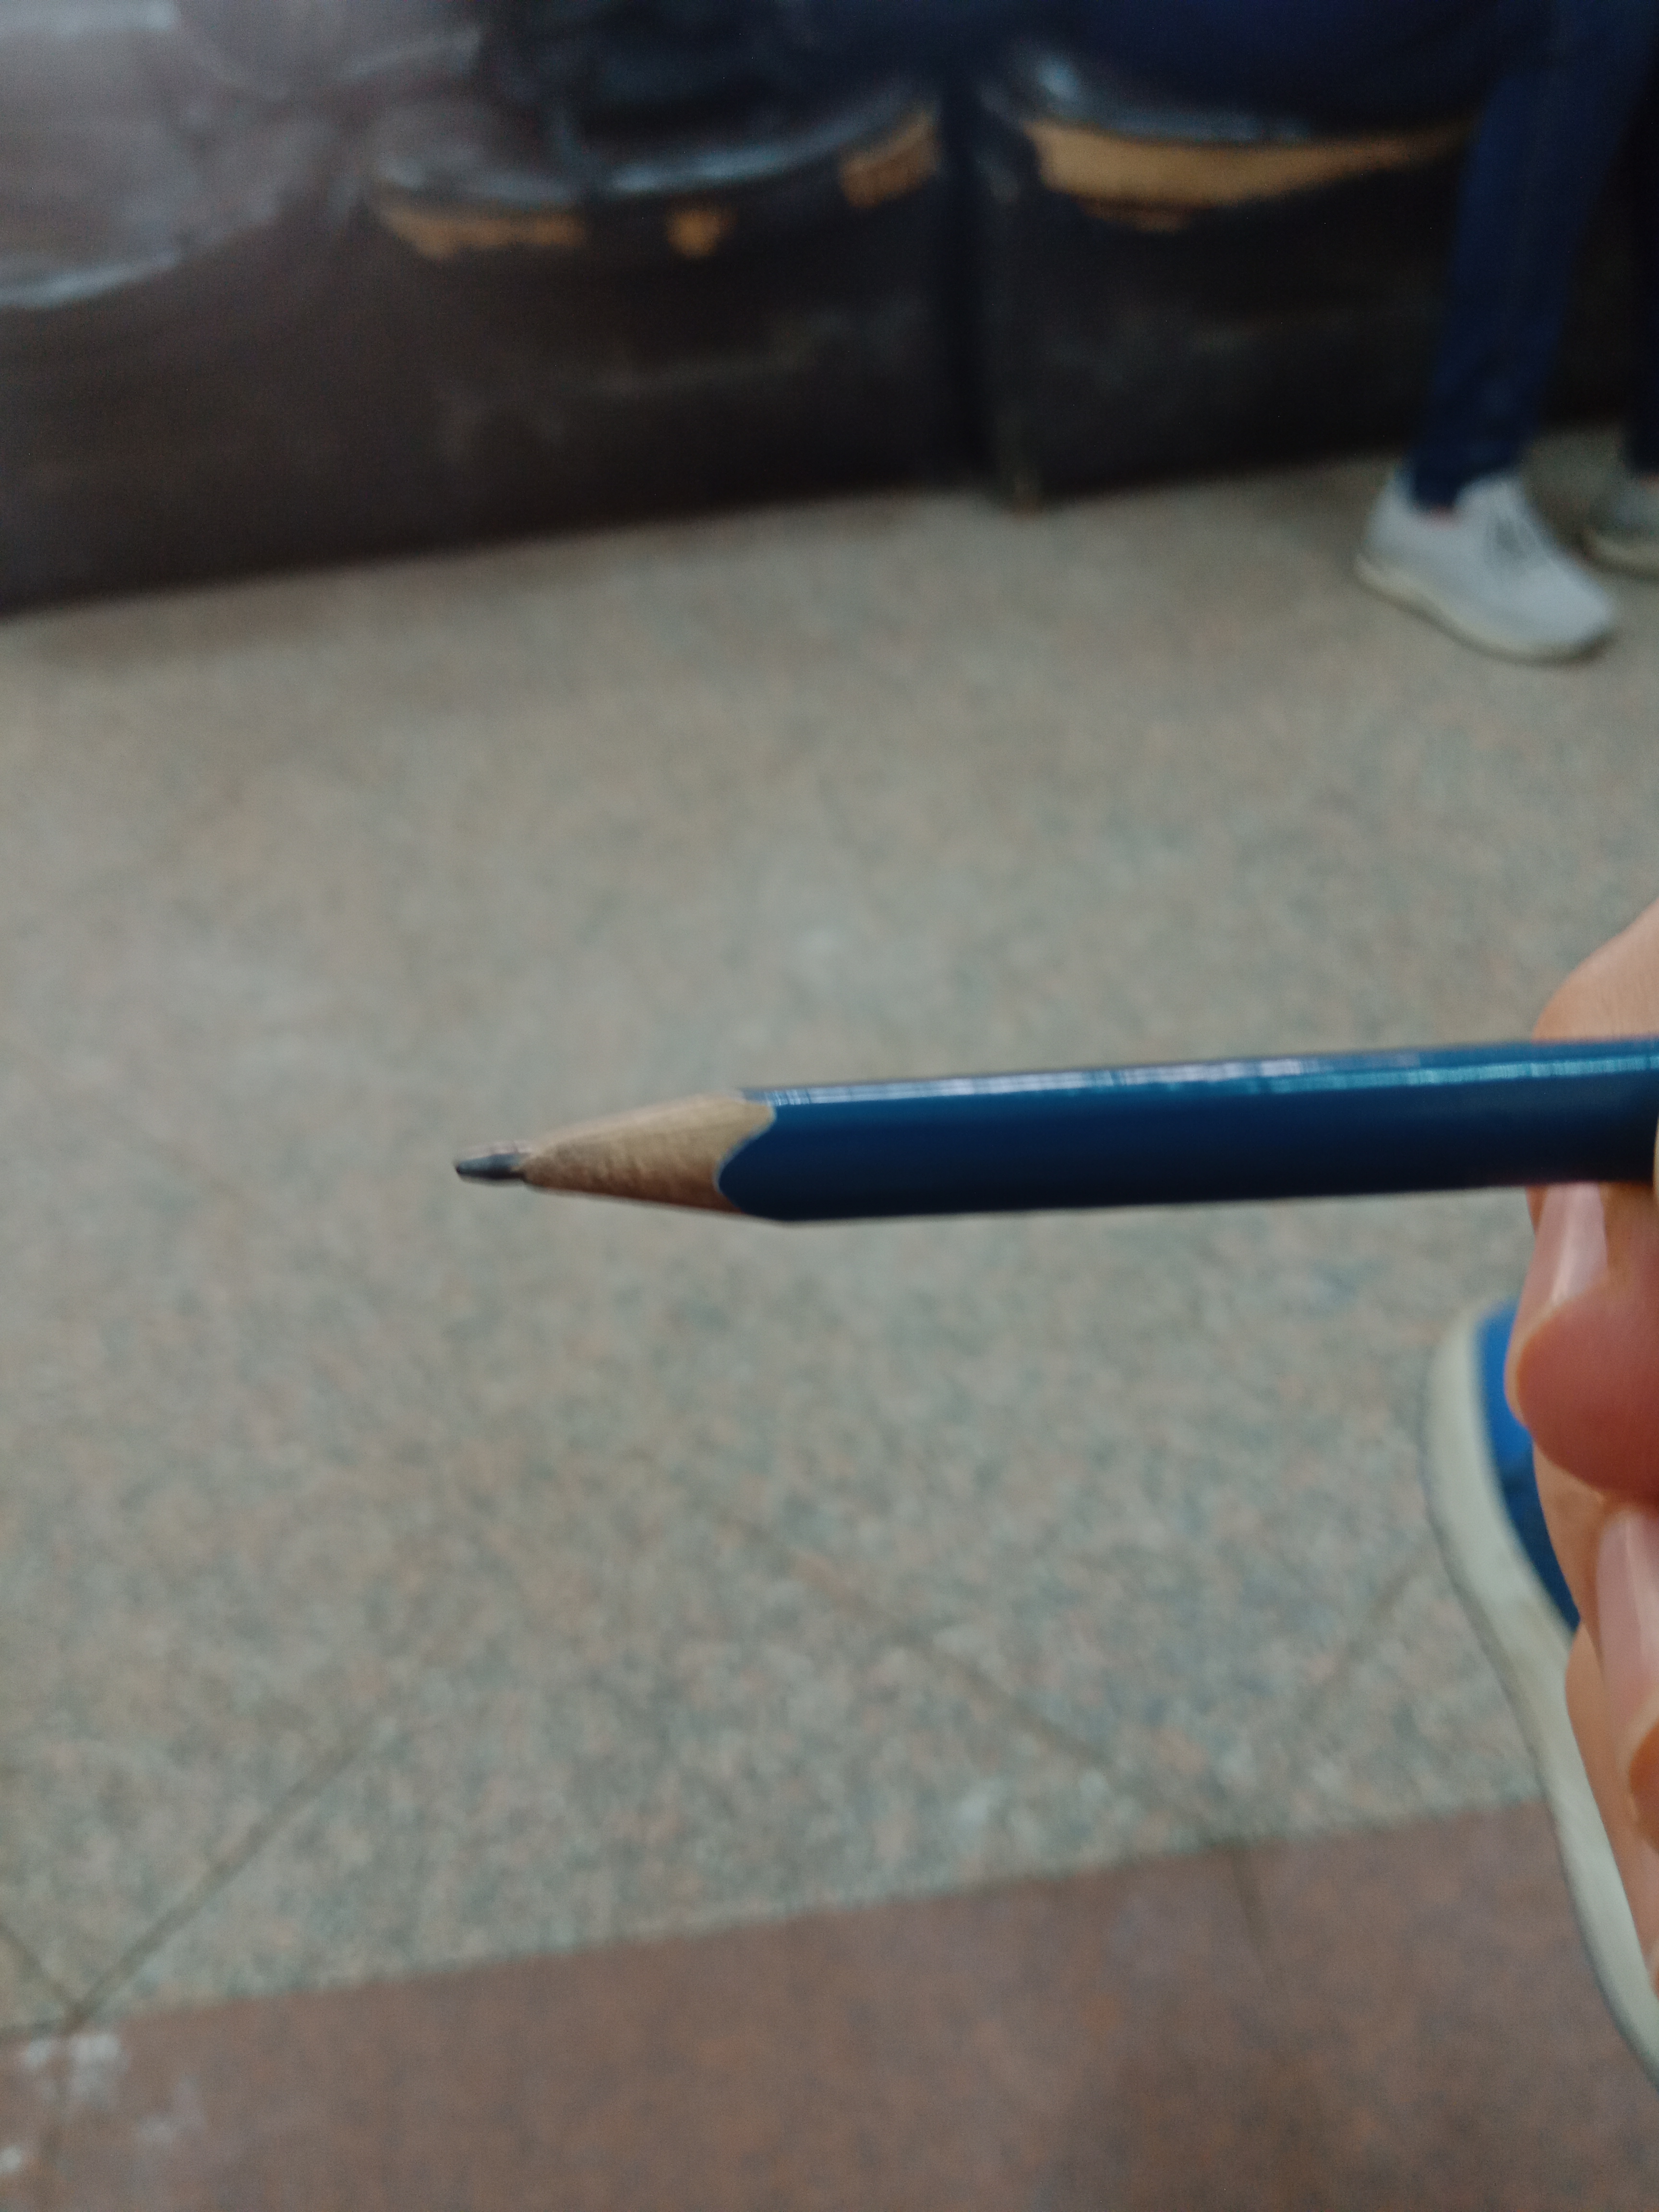pen_tip: (335, 1043, 906, 1264)
